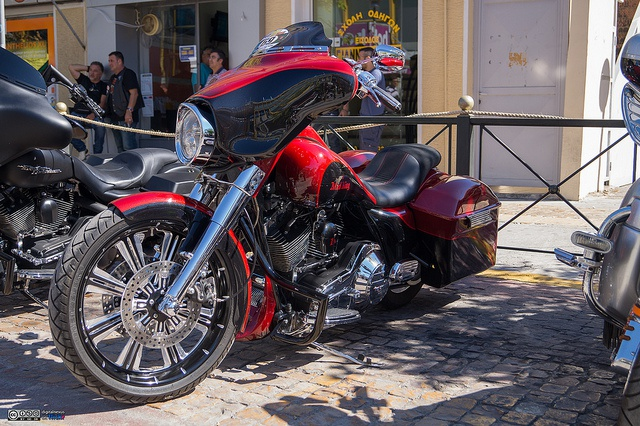non-vehicle: (50, 25, 502, 401), (0, 43, 196, 293), (554, 34, 639, 382)
